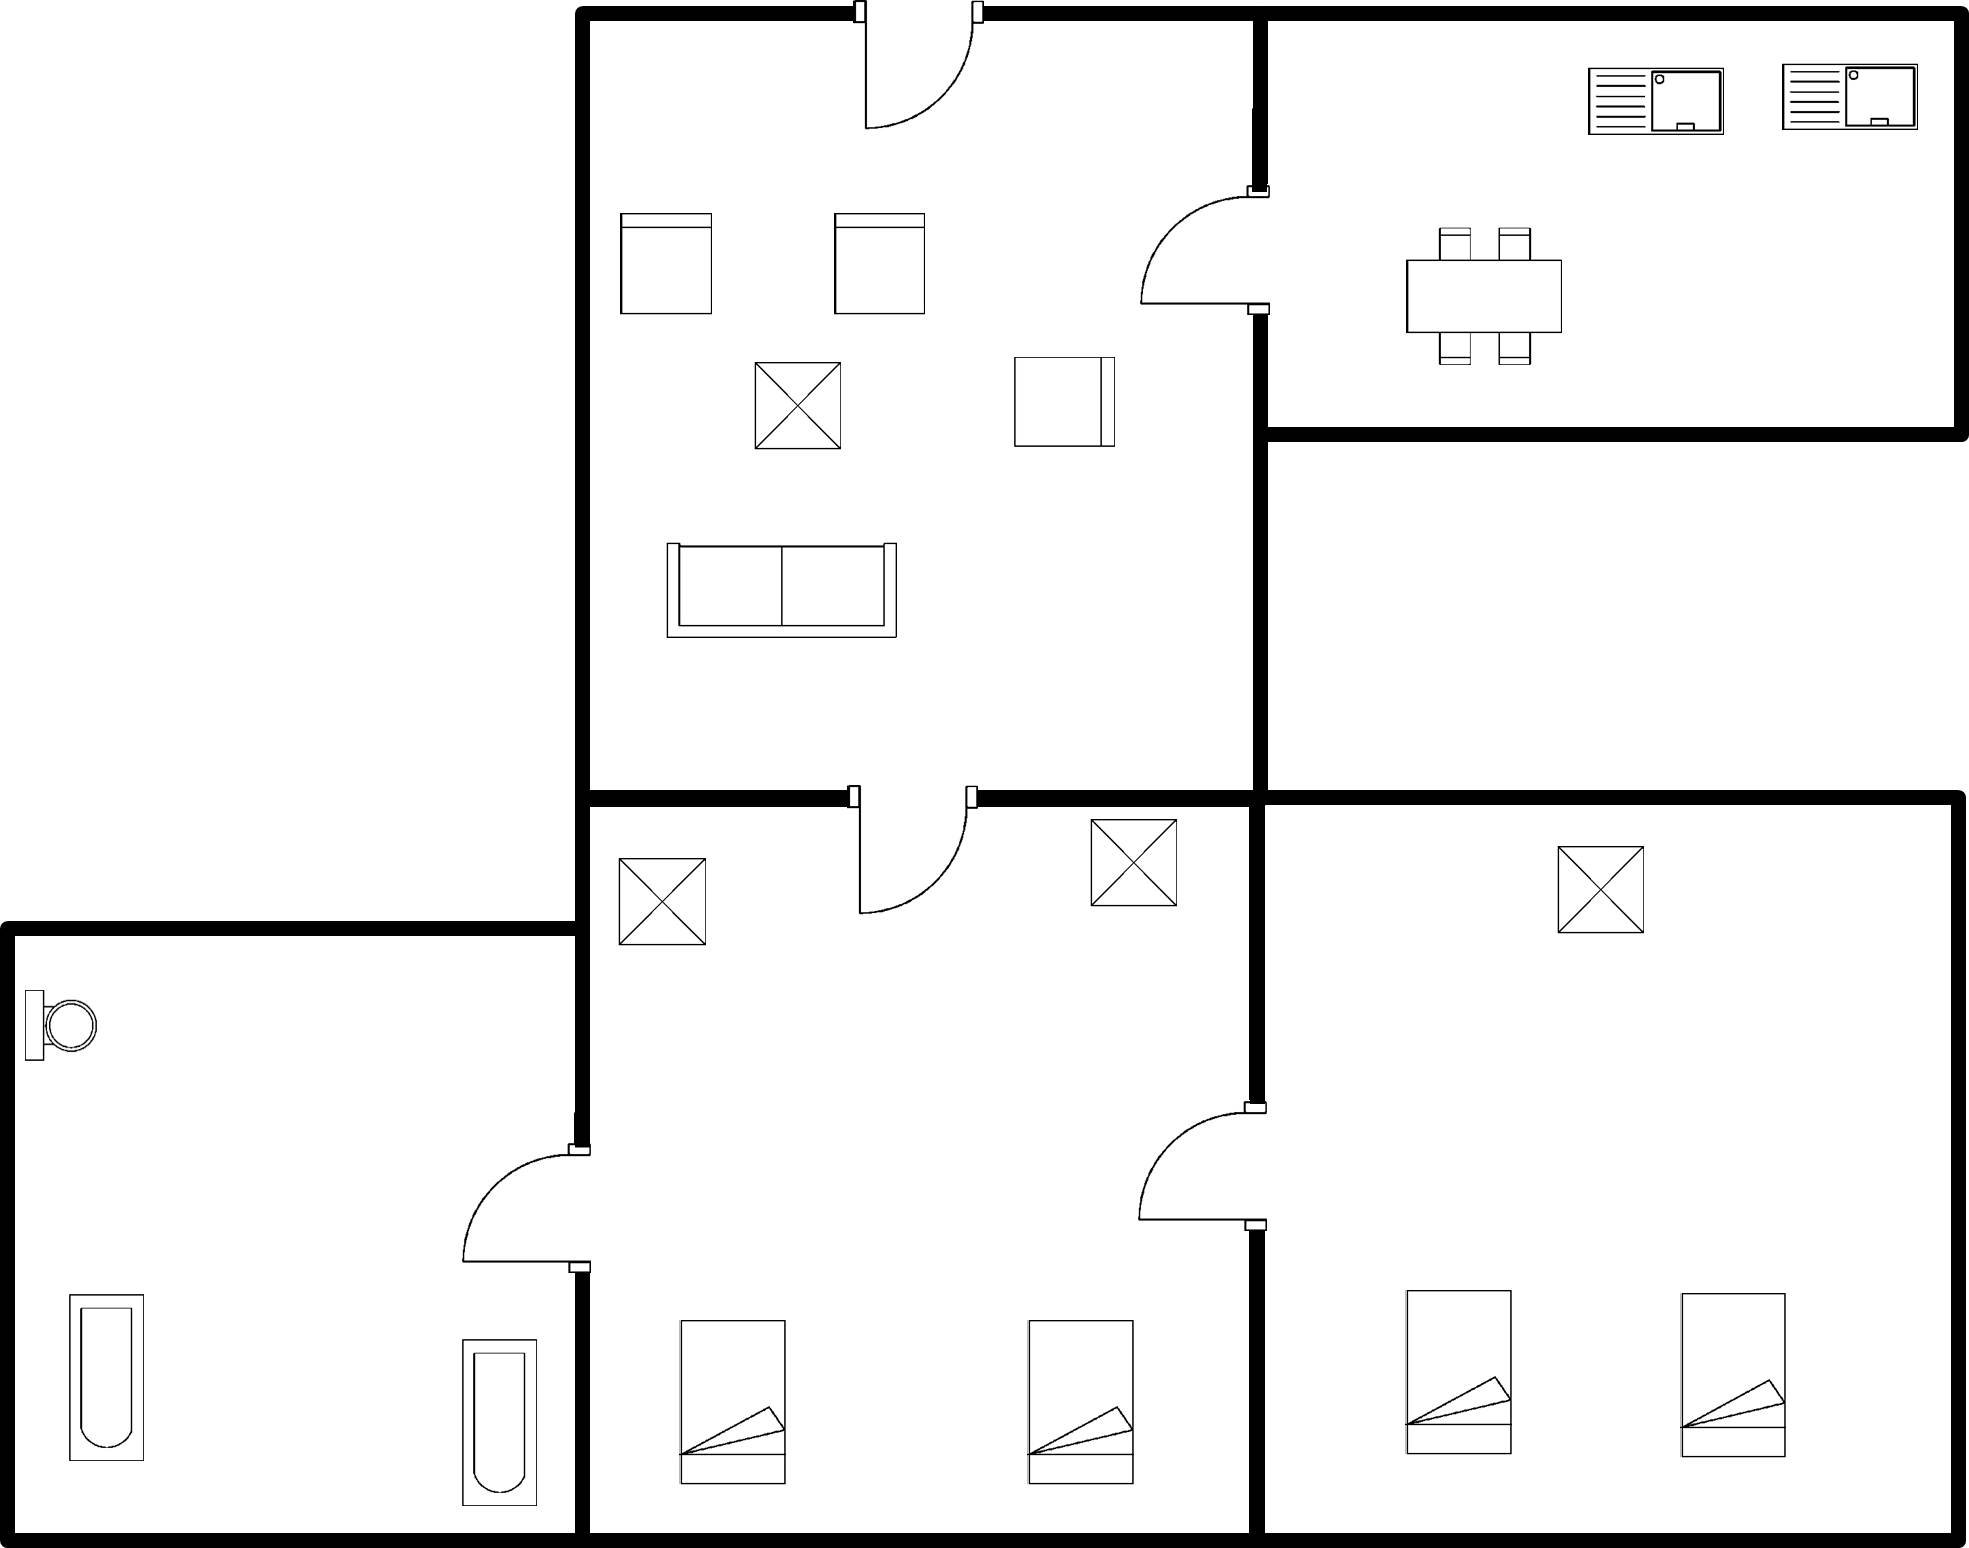bed: (1393, 1275, 1522, 1466), (669, 1312, 797, 1498), (1670, 1281, 1797, 1469), (1020, 1309, 1146, 1494)
coffee_table: (743, 350, 855, 463), (609, 845, 720, 959), (1547, 837, 1656, 944), (1082, 810, 1188, 919)
dining_table: (1399, 216, 1570, 375)
large_sink: (19, 978, 102, 1077)
large_sofa: (656, 531, 906, 648)
sink: (1581, 56, 1732, 148), (1772, 54, 1929, 144)
small_sofa: (1000, 348, 1125, 459), (823, 200, 932, 325), (612, 206, 725, 325)
tub: (56, 1284, 156, 1471), (452, 1331, 547, 1515)
